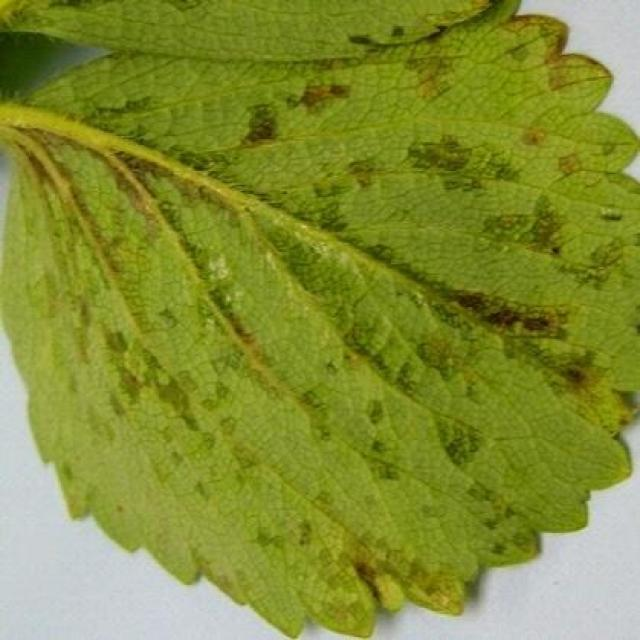Angular Leafspot: (0, 0, 638, 638)
